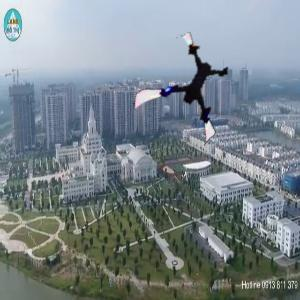drone: (143, 45, 243, 145)
